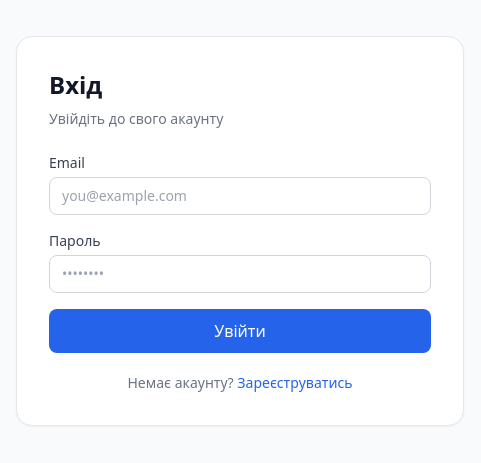
Test: LoginPage › shows validation errors for empty submit
Click the button "Увійти".
click(240, 331)  # box [49,309,431,353]
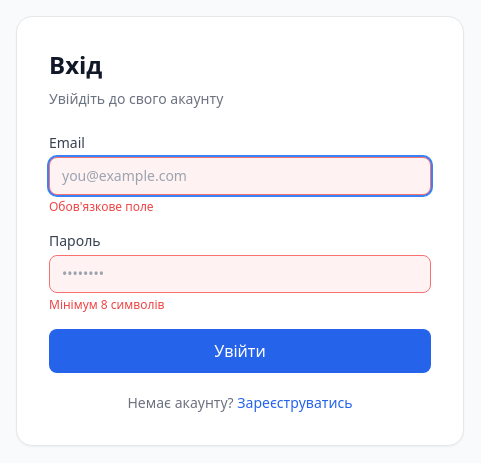
Check: the text "Обов'язкове поле" is shown, box [49,198,154,215]
